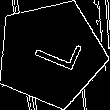L_NW: (21, 30, 81, 77)
